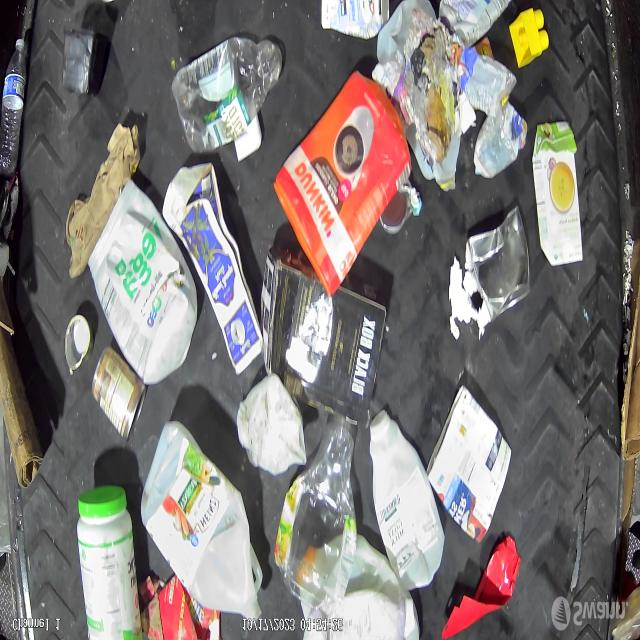can: (465, 207, 531, 323), (92, 346, 146, 437), (62, 312, 94, 375), (381, 184, 414, 233)
milk_jug: (141, 420, 263, 626), (370, 406, 448, 592)
non_white_jug: (274, 63, 406, 292)
plastic_bottle: (274, 414, 357, 612), (171, 34, 284, 154), (1, 28, 29, 181)
